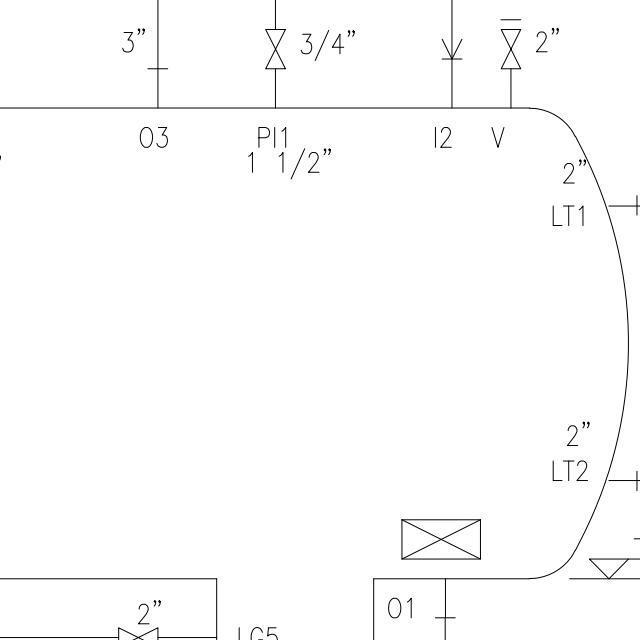GV: (259, 25, 289, 78), (500, 25, 523, 76)
